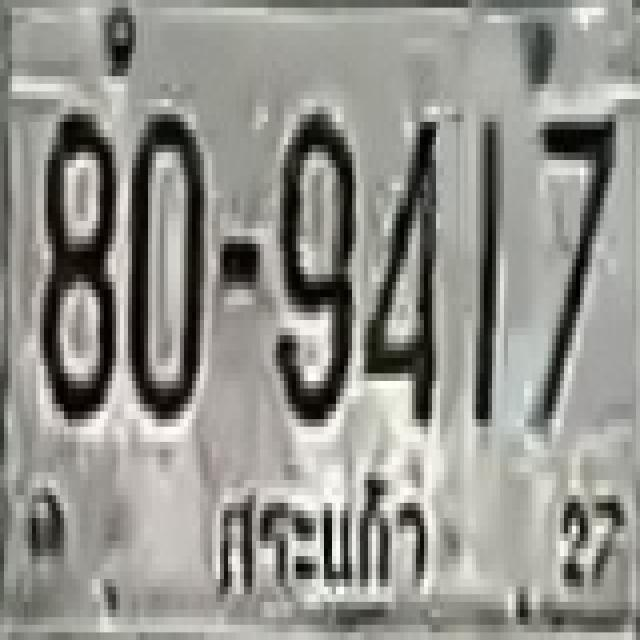0: (126, 106, 202, 412)
1: (470, 114, 498, 419)
4: (360, 107, 436, 419)
7: (532, 110, 612, 423)
8: (40, 106, 112, 412)
9: (272, 107, 352, 419)
SKW: (206, 456, 444, 620)
